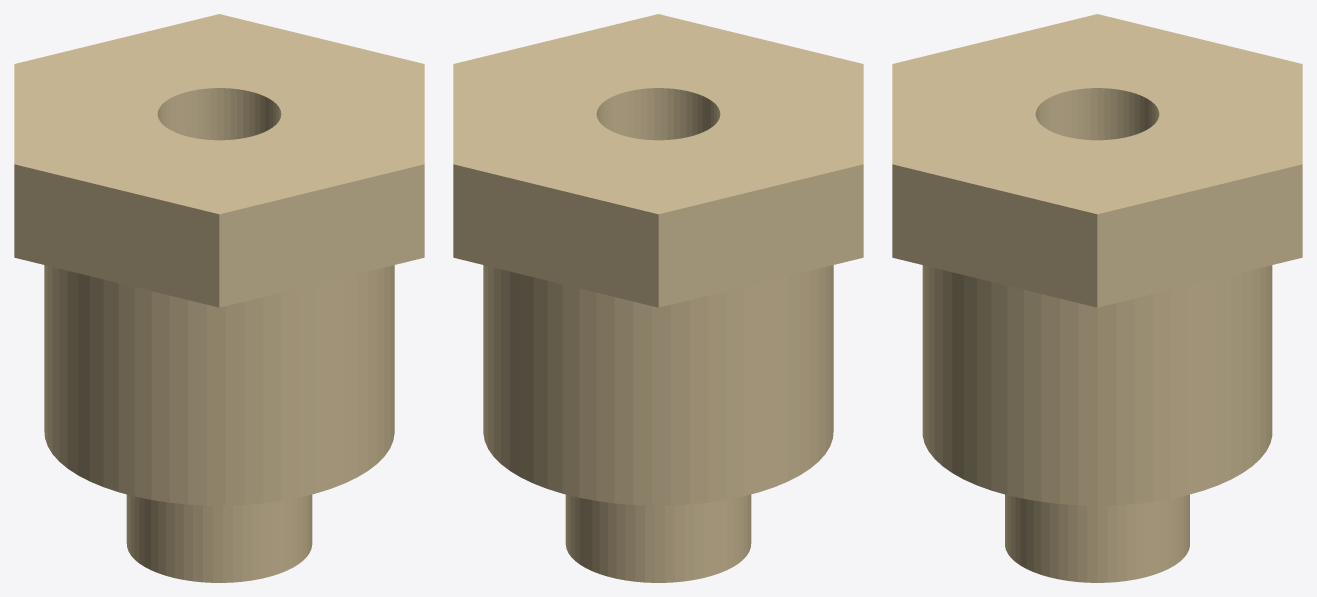
The model's file is engine-coolant-temperature-body.glb.
3 views of the same model, side by side, from view 1: azimuth 30°, elevation 25°; view 2: azimuth 150°, elevation 25°; view 3: azimuth 270°, elevation 25° (orthographic).
Visible parts, largest first — view 1: world; view 2: world; view 3: world.
Boxes of the visible parts, box(x1,y1,x2,y2) form: world: box(14, 14, 424, 582); world: box(453, 14, 863, 582); world: box(892, 14, 1302, 582).
Bounding box in the file's own units: 0.023 × 0.023 × 0.0199.
